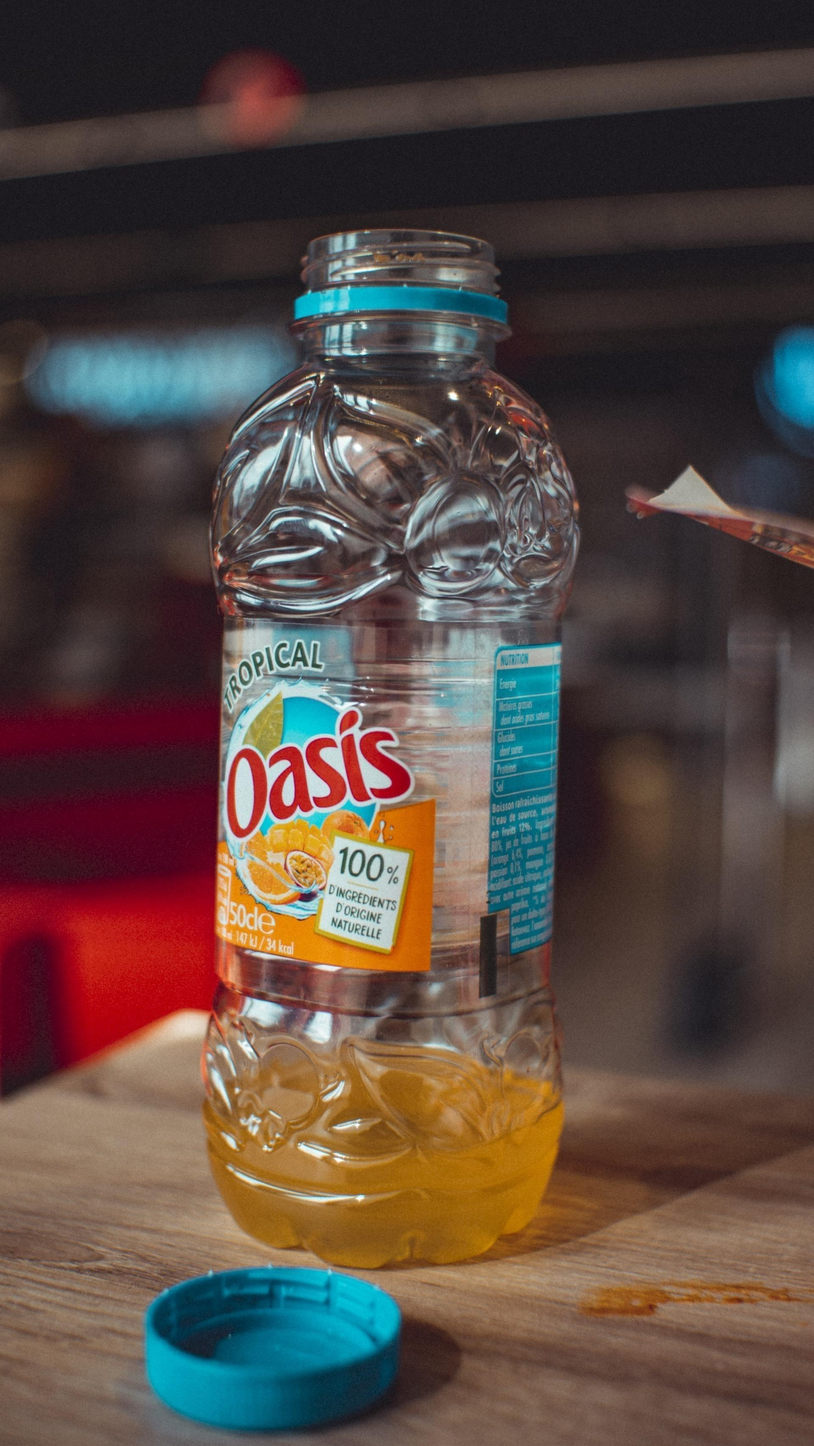bottle-plastic: (194, 210, 584, 1278)
